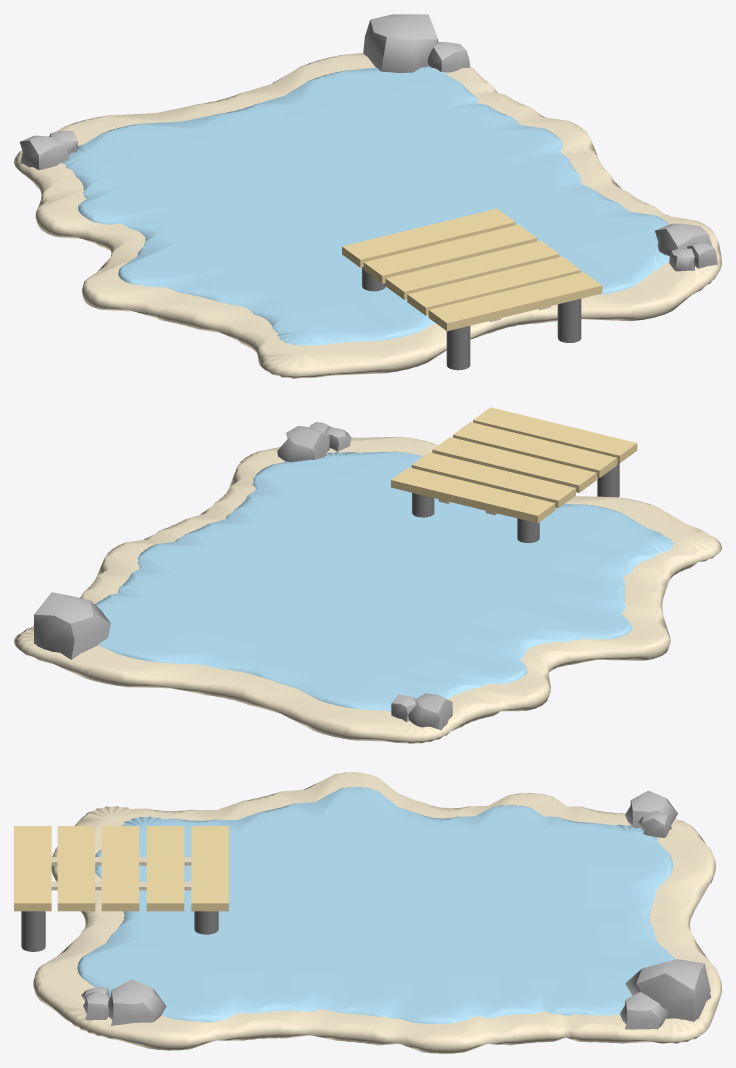
File: waterfish.fbx
The picture shows the model from 3 angles, top to bottom: view 1: azimuth 30°, elevation 25°; view 2: azimuth 150°, elevation 25°; view 3: azimuth 270°, elevation 25°; orthographic projection. The views are drawn at different scales.
Visible parts, largest first — view 1: pCube106, pCube107, pCube96, pCube113, pCube104, pCube99, pCube103, pCube102, pCube115, pCube117, pCube112, pCylinder3 (+1 smaller); view 2: pCube106, pCube107, pCube99, pCube113, pCube103, pCube104, pCube102, pCube96, pCube117, pCube115, pCylinder3; view 3: pCube106, pCube107, pCube113, pCube103, pCube104, pCube102, pCube99, pCube96, pCube117, pCube112, pCube115, pCylinder2 (+3 smaller).
Boxes of the visible parts, bbox=[...] form: pCube106: bbox=[62, 66, 669, 346]; pCube107: bbox=[14, 53, 721, 378]; pCube96: bbox=[428, 272, 602, 331]; pCube113: bbox=[363, 14, 437, 72]; pCube104: bbox=[363, 224, 537, 283]; pCube99: bbox=[342, 208, 515, 267]; pCube103: bbox=[385, 240, 559, 299]; pCube102: bbox=[407, 256, 580, 315]; pCube115: bbox=[19, 135, 68, 170]; pCube117: bbox=[655, 223, 711, 256]; pCube112: bbox=[427, 41, 470, 72]; pCylinder3: bbox=[446, 326, 470, 370]; pCube106: bbox=[94, 451, 674, 711]; pCube107: bbox=[14, 437, 721, 743]; pCube99: bbox=[391, 467, 555, 523]; pCube113: bbox=[34, 592, 110, 659]; pCube103: bbox=[432, 437, 596, 492]; pCube104: bbox=[411, 452, 575, 508]; pCube102: bbox=[453, 422, 617, 477]; pCube96: bbox=[473, 407, 637, 463]; pCube117: bbox=[277, 426, 329, 462]; pCube115: bbox=[408, 693, 452, 730]; pCylinder3: bbox=[597, 463, 619, 497]; pCube106: bbox=[77, 786, 674, 1024]; pCube107: bbox=[33, 772, 721, 1053]; pCube113: bbox=[625, 959, 711, 1021]; pCube103: bbox=[101, 826, 139, 911]; pCube104: bbox=[146, 826, 184, 911]; pCube102: bbox=[57, 826, 95, 911]; pCube99: bbox=[191, 826, 228, 911]; pCube96: bbox=[14, 826, 51, 911]; pCube117: bbox=[108, 979, 166, 1025]; pCube112: bbox=[620, 992, 669, 1029]; pCube115: bbox=[625, 790, 677, 828]; pCylinder2: bbox=[21, 911, 45, 951].
Size of the model in its own units: 12.99 by 1.36 by 14.37.
